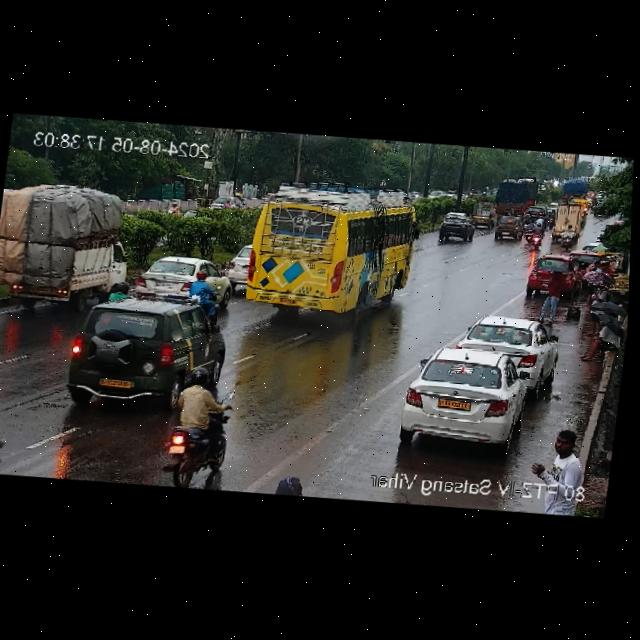bus: (224, 175, 420, 327)
car: (67, 292, 238, 418), (397, 344, 530, 449), (458, 312, 557, 382), (129, 252, 226, 305), (523, 251, 587, 304), (432, 212, 475, 246), (492, 213, 523, 242), (468, 203, 496, 229)
motorcycle: (155, 363, 237, 457), (181, 267, 234, 320), (522, 206, 550, 249), (558, 222, 577, 249)
person: (525, 425, 588, 483), (575, 257, 614, 337), (575, 317, 624, 364), (535, 255, 566, 328)
truck: (0, 173, 134, 314), (490, 174, 543, 217), (548, 197, 587, 244)
